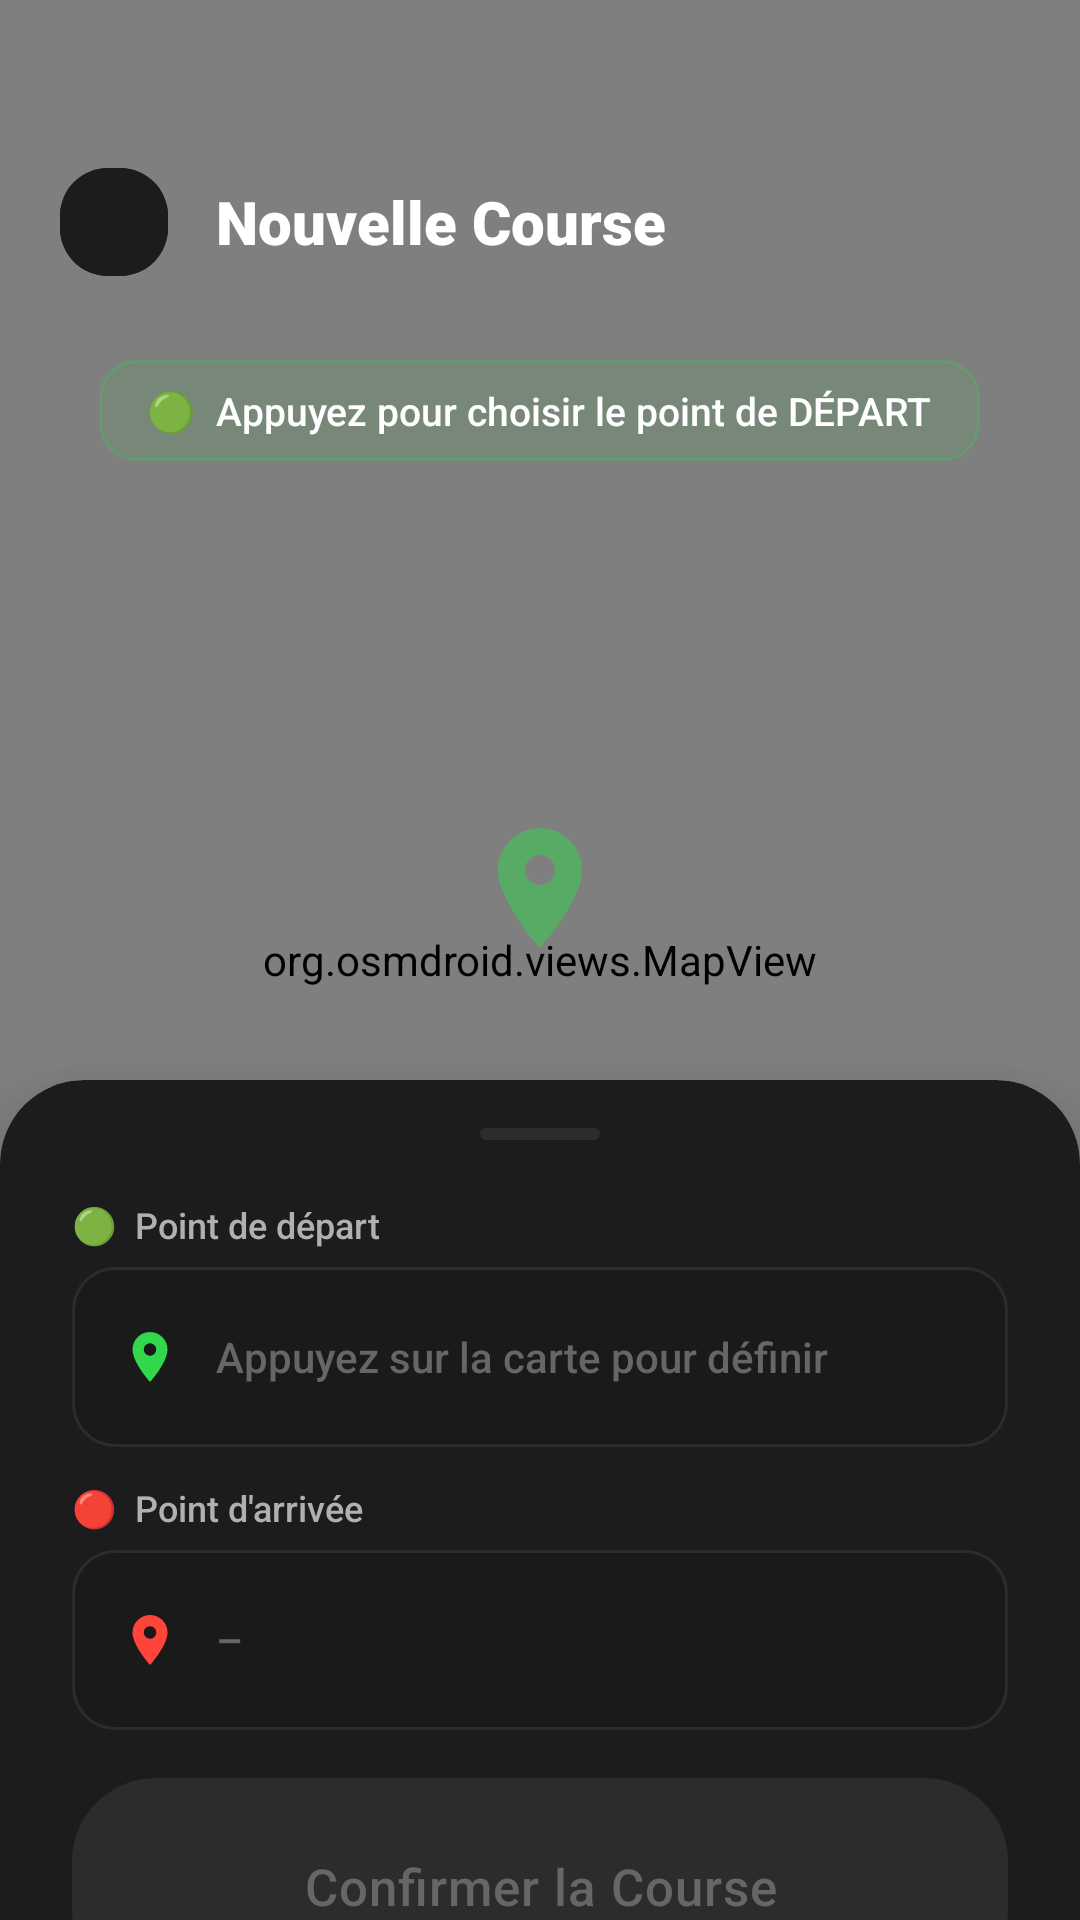

Icons on this 1080 × 1920 Android screen, each with its box as box=[x1, y1, x2, y2]:
location: box=[132, 1332, 168, 1382], box=[132, 1615, 168, 1665]
